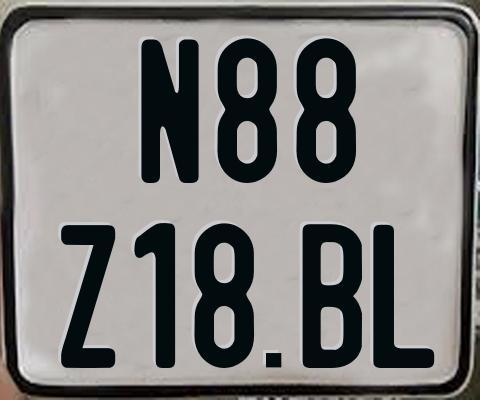1: (132, 223, 173, 370)
8: (194, 220, 257, 368), (293, 38, 355, 186), (217, 35, 278, 183)
B: (301, 221, 362, 371)
L: (371, 224, 433, 367)
N: (140, 37, 203, 186)
Z: (60, 222, 119, 369)
